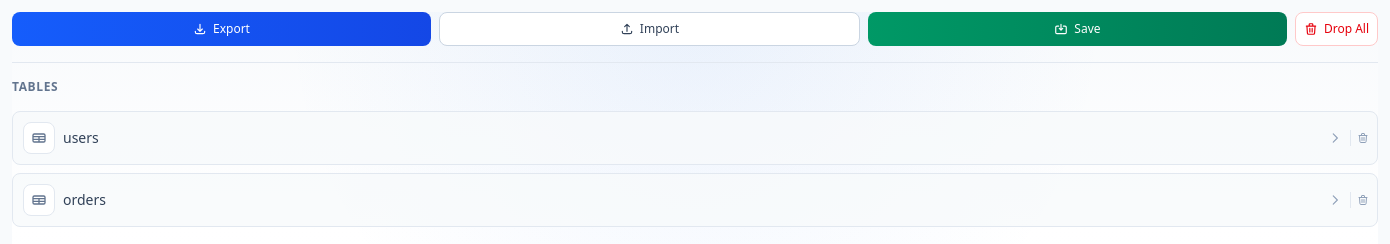
Scenario: TableList › destructive operations › shows confirmation for Drop All
Click the button with aria-label "Drop all tables".
click(1336, 29)  # box x1=1295 y1=12 x2=1378 y2=46
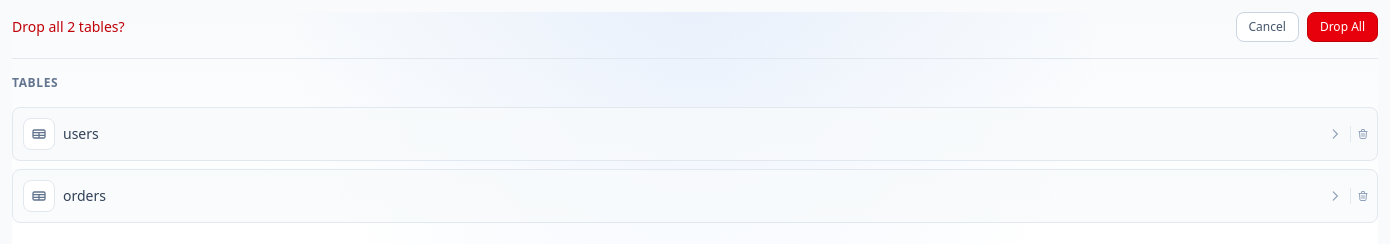
Check: the text "Drop all 2 tables?" is shown, box x1=12 y1=17 x2=125 y2=36
Check: the button "Cancel" is shown, box x1=1236 y1=12 x2=1299 y2=42
Check: the button "Drop All" is shown, box x1=1307 y1=12 x2=1378 y2=42
